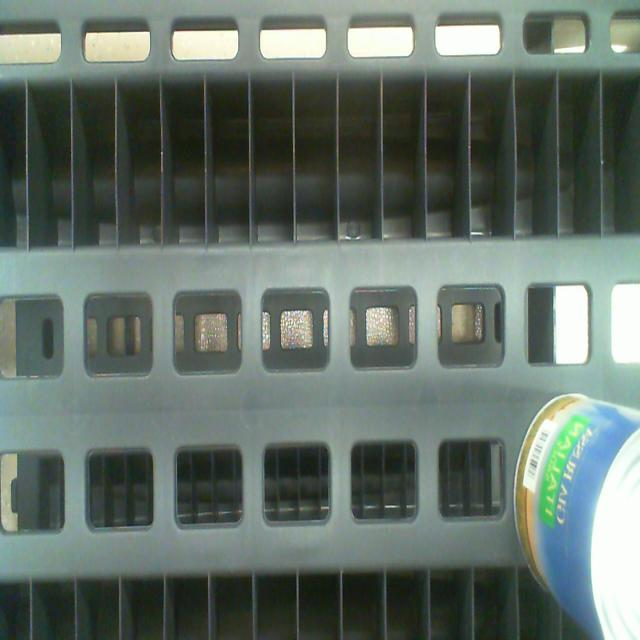can: (590, 428, 640, 640)
